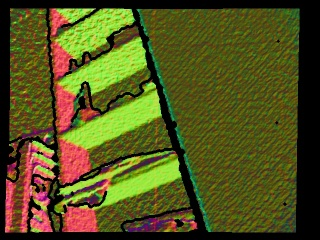station: (68, 82, 102, 128)
